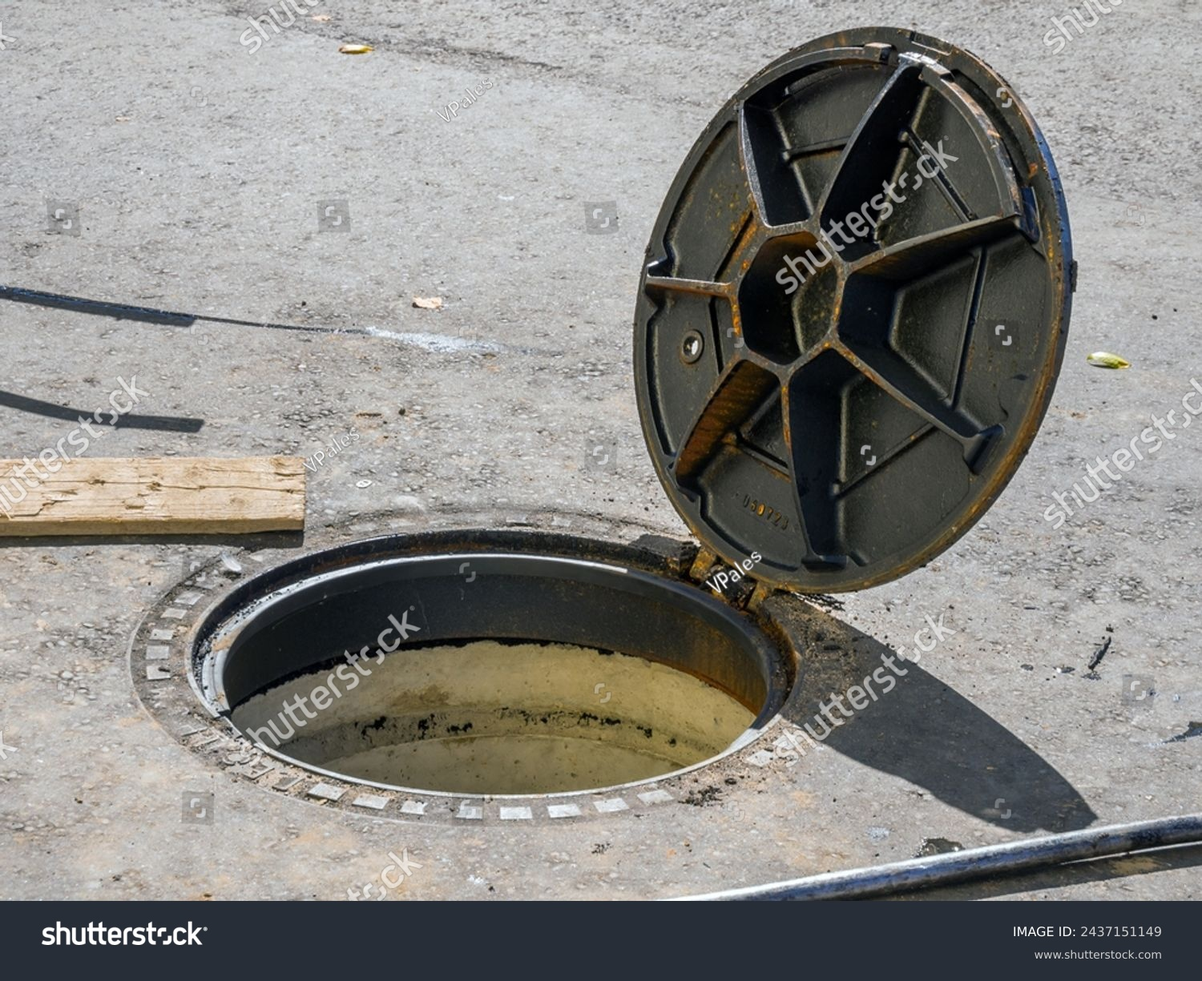Open_manhole: (124, 27, 1064, 837)
